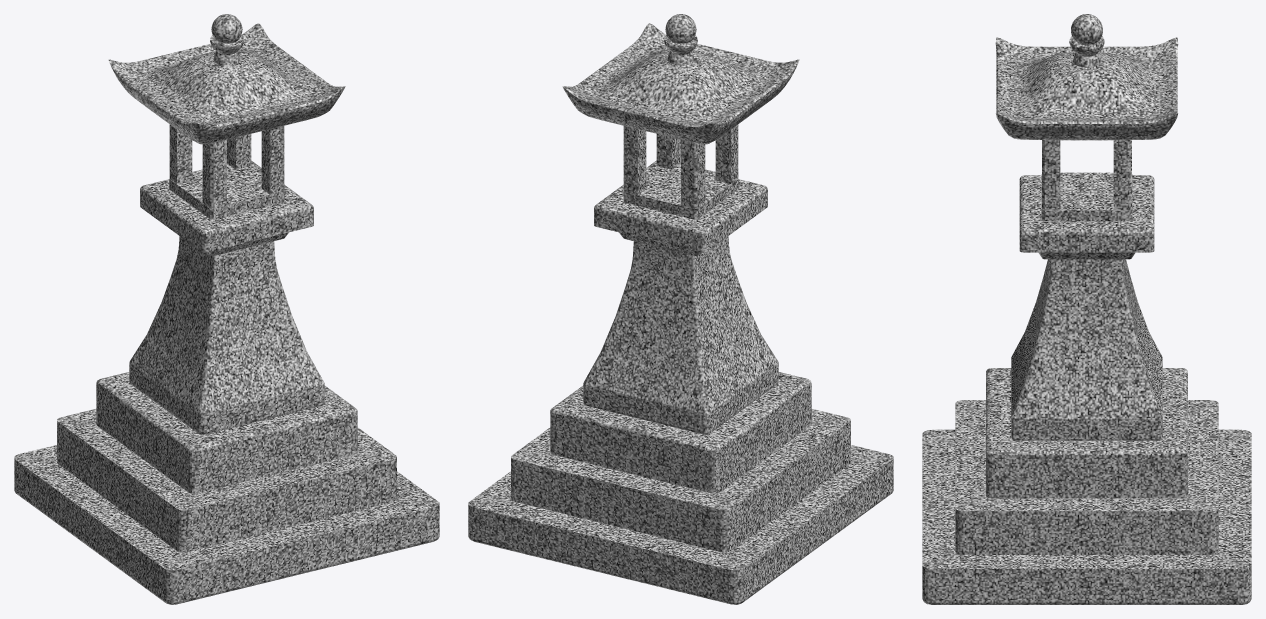
The model's file is t_joyato.glb.
The picture shows the model from 3 angles, left to right: view 1: azimuth 30°, elevation 25°; view 2: azimuth 150°, elevation 25°; view 3: azimuth 270°, elevation 25°; orthographic projection. The views are drawn at different scales.
Parts seen in each view (by area): view 1: t_joyato; view 2: t_joyato; view 3: t_joyato.
Boxes of the visible parts, x1,y1,x2,y2 form: t_joyato: (14, 14, 439, 604); t_joyato: (468, 14, 893, 604); t_joyato: (922, 14, 1251, 604).
Size of the model in its own units: 1.14 by 2 by 1.14.
1 material, 1 textured.
